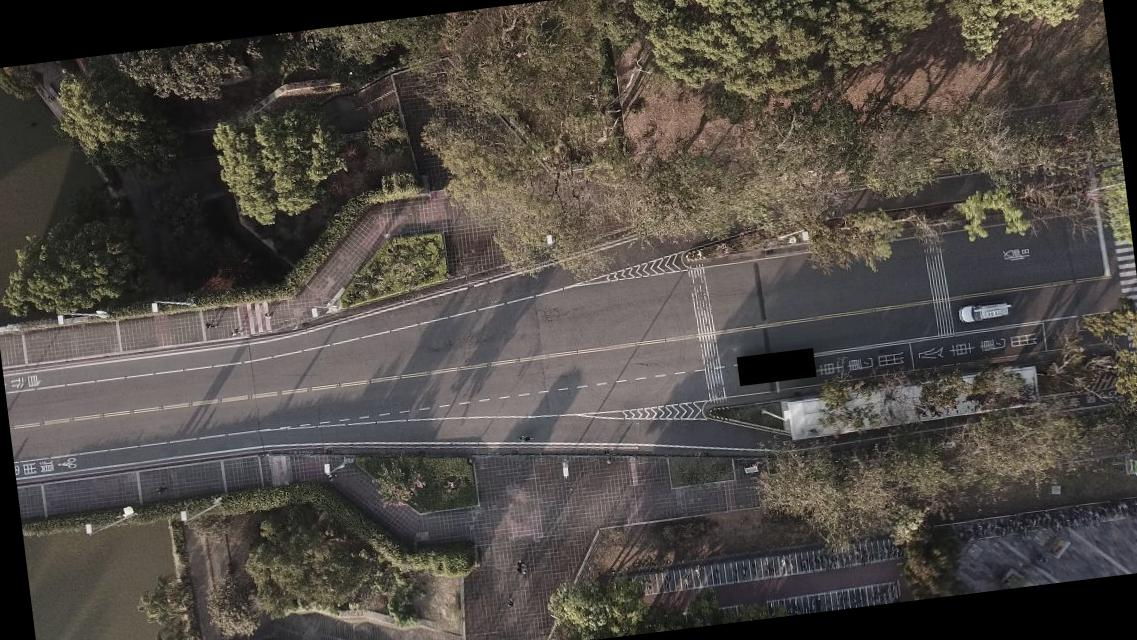vehicle: (957, 299, 1012, 323)
